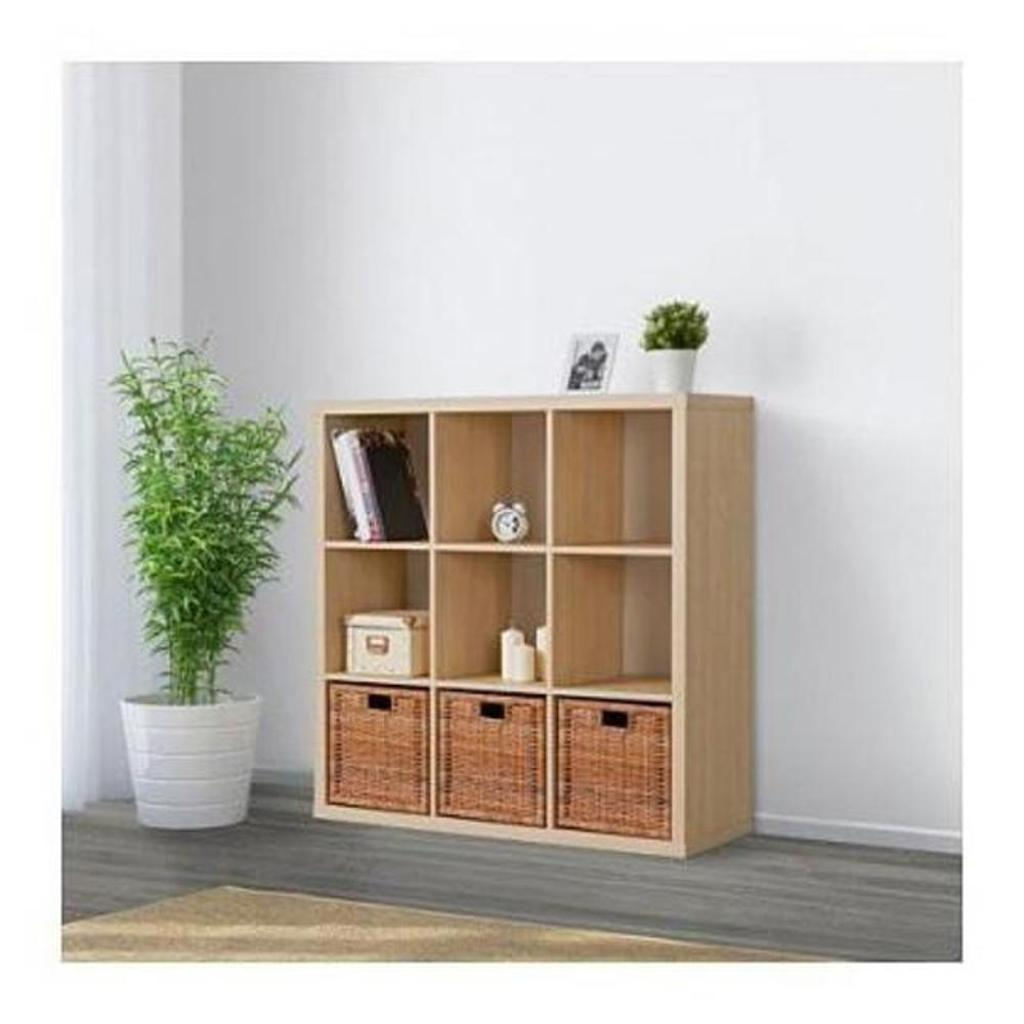lamp: (311, 390, 759, 866)
